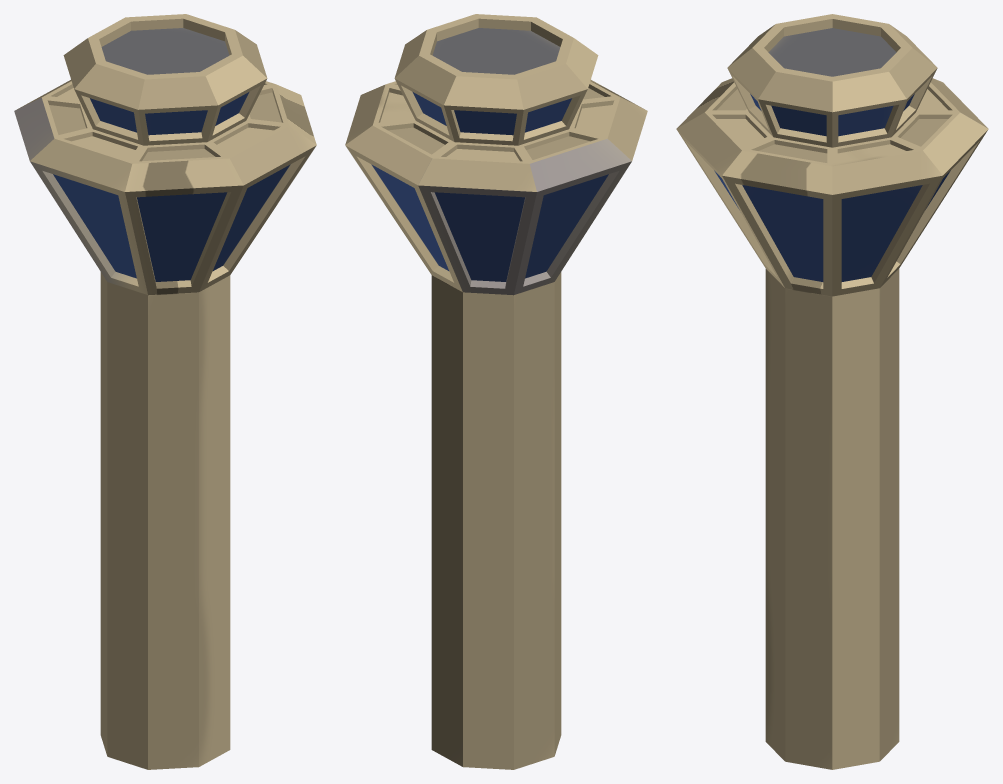
Rendered from control.glb.
3 views of the same model, side by side, from view 1: azimuth 30°, elevation 25°; view 2: azimuth 150°, elevation 25°; view 3: azimuth 270°, elevation 25° (orthographic).
Parts seen in each view (by area): view 1: Control; view 2: Control; view 3: Control.
Part boxes in pixels (box(x1,y1,x2,y2)): Control: box(14, 14, 316, 769); Control: box(345, 14, 647, 769); Control: box(676, 14, 988, 769).
Bounding box in the file's own units: 12.08 × 29.58 × 12.08.
1 material, 1 textured.
